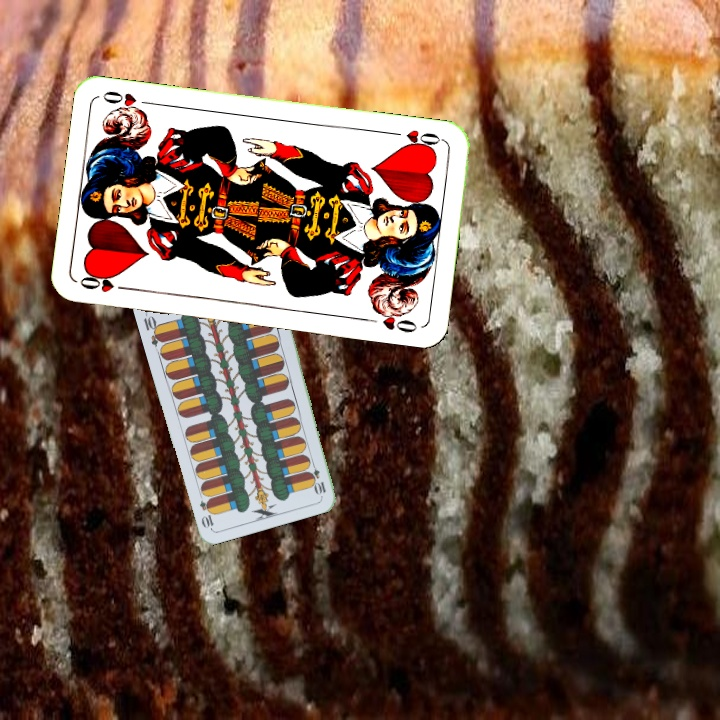E10: (139, 309, 166, 349), (306, 457, 329, 497)
HO: (386, 125, 445, 153), (76, 269, 134, 295)
